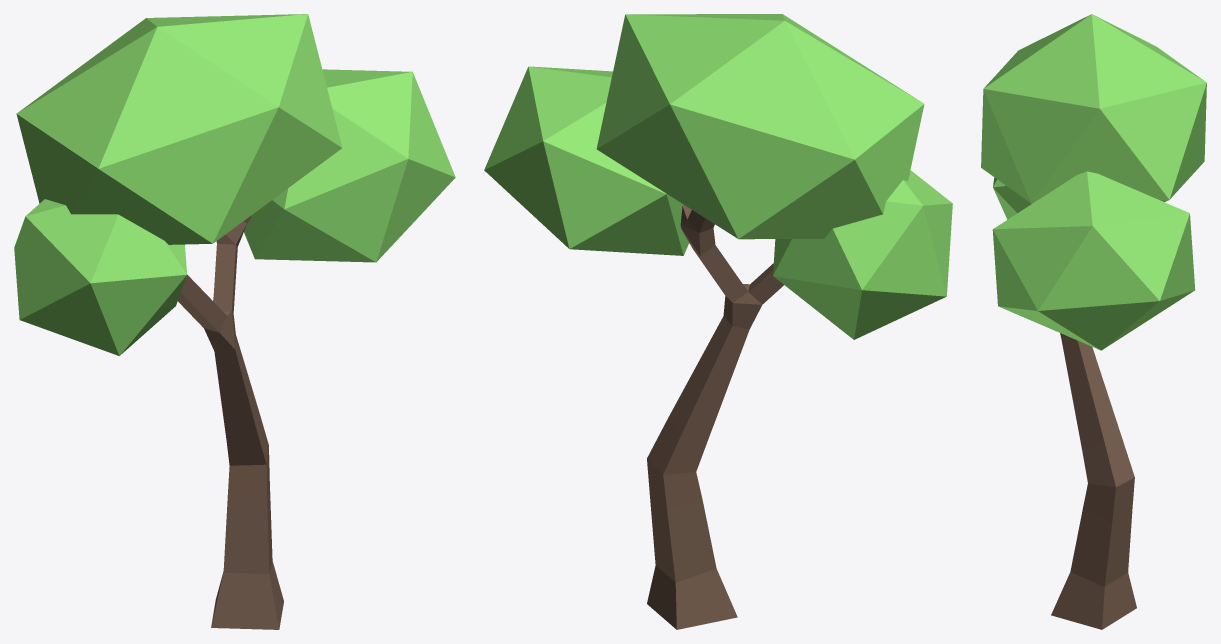
Rendered from tree3.2.fbx.
3 views of the same model, side by side, from view 1: azimuth 30°, elevation 25°; view 2: azimuth 150°, elevation 25°; view 3: azimuth 270°, elevation 25° (orthographic). The views are drawn at different scales.
Parts seen in each view (by area): view 1: tree3; view 2: tree3; view 3: tree3.
Boxes of the visible parts, bbox=[...] form: tree3: bbox=[14, 14, 455, 629]; tree3: bbox=[484, 14, 952, 629]; tree3: bbox=[981, 14, 1206, 629].
Size of the model in its own units: 2.77 by 3.87 by 1.42.
